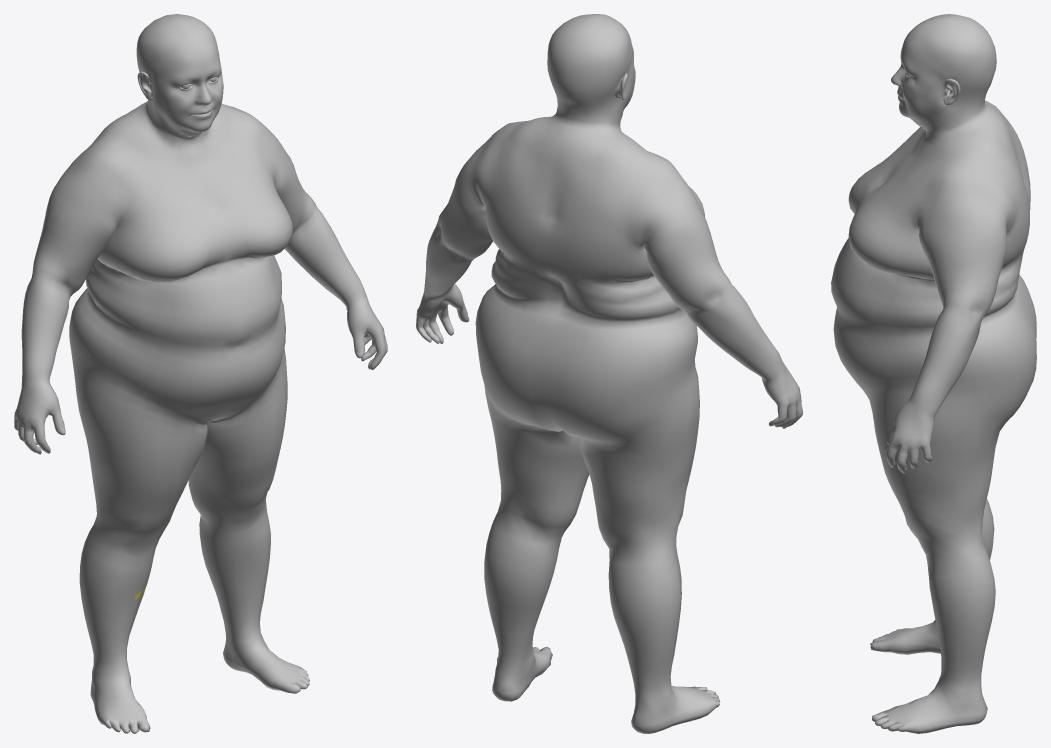
The model's file is 1135011-supine-red+yellow.gltf.
3 views of the same model, side by side, from view 1: azimuth 30°, elevation 25°; view 2: azimuth 150°, elevation 25°; view 3: azimuth 270°, elevation 25° (orthographic). The views are drawn at different scales.
Parts seen in each view (by area): view 1: mc-Female_61in_250lbs-a-pose; view 2: mc-Female_61in_250lbs-a-pose; view 3: mc-Female_61in_250lbs-a-pose.
Boxes of the visible parts, left/top/right/bottom form: mc-Female_61in_250lbs-a-pose: left=14, top=14, right=387, bottom=733; mc-Female_61in_250lbs-a-pose: left=416, top=14, right=802, bottom=733; mc-Female_61in_250lbs-a-pose: left=831, top=14, right=1036, bottom=733.
Size of the model in its own units: 2.64 by 4.66 by 1.3.
1 material, 1 textured.
